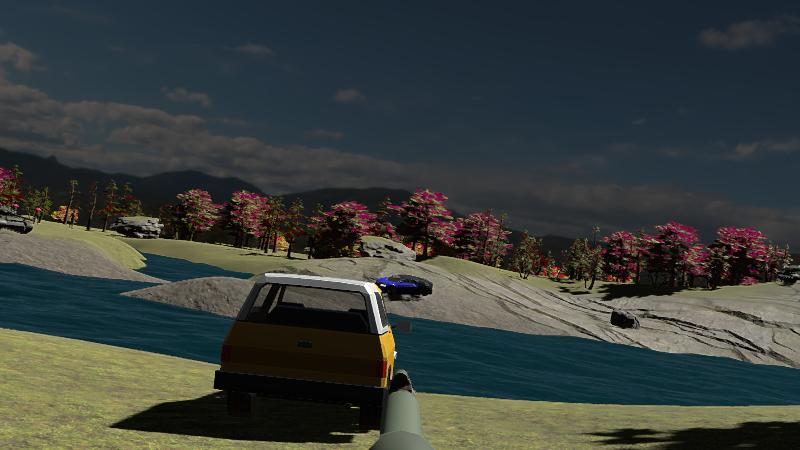car: (214, 272, 398, 430), (376, 273, 433, 299)
